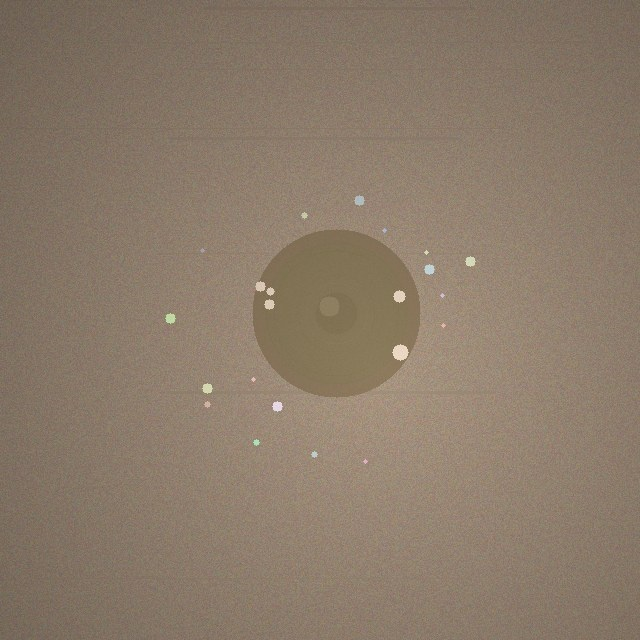overburn: (252, 229, 420, 397)
